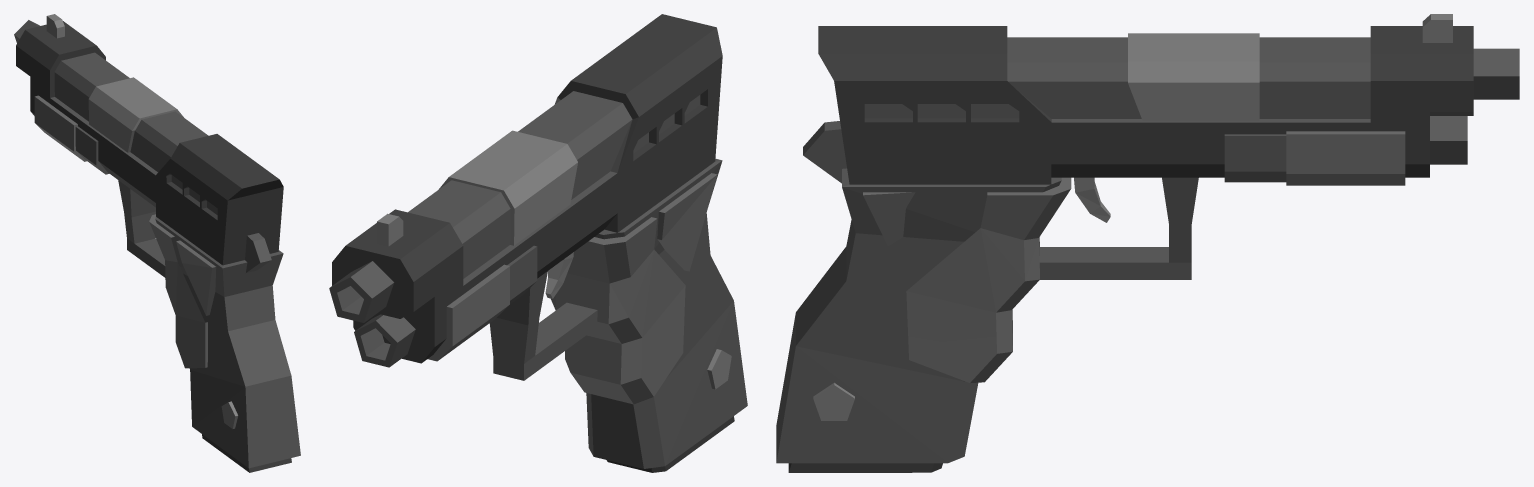
Rendered from pistol_2.glb.
3 renders of one model, left to right at view 1: azimuth 30°, elevation 25°; view 2: azimuth 150°, elevation 25°; view 3: azimuth 270°, elevation 25°, orthographic. The views are drawn at different scales.
Parts seen in each view (by area): view 1: pistol_2, pistol_charger_2; view 2: pistol_2, pistol_charger_2; view 3: pistol_2, pistol_charger_2.
Part boxes in pixels (x1,y1,x2,y2): pistol_2: (14, 14, 300, 468); pistol_charger_2: (202, 434, 291, 472); pistol_2: (329, 14, 747, 468); pistol_charger_2: (606, 416, 734, 472); pistol_2: (776, 14, 1519, 463); pistol_charger_2: (788, 463, 942, 472).
Size of the model in its own units: 0.2072 by 0.8493 by 1.3.
Materials: 1 (1 with a texture image).
